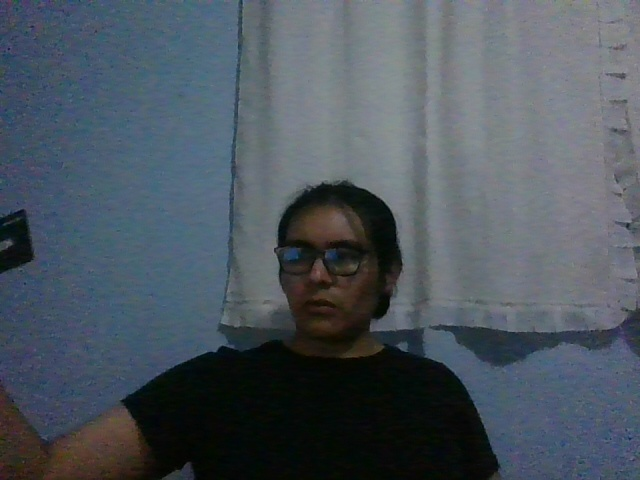tarjeta: (1, 208, 35, 275)
